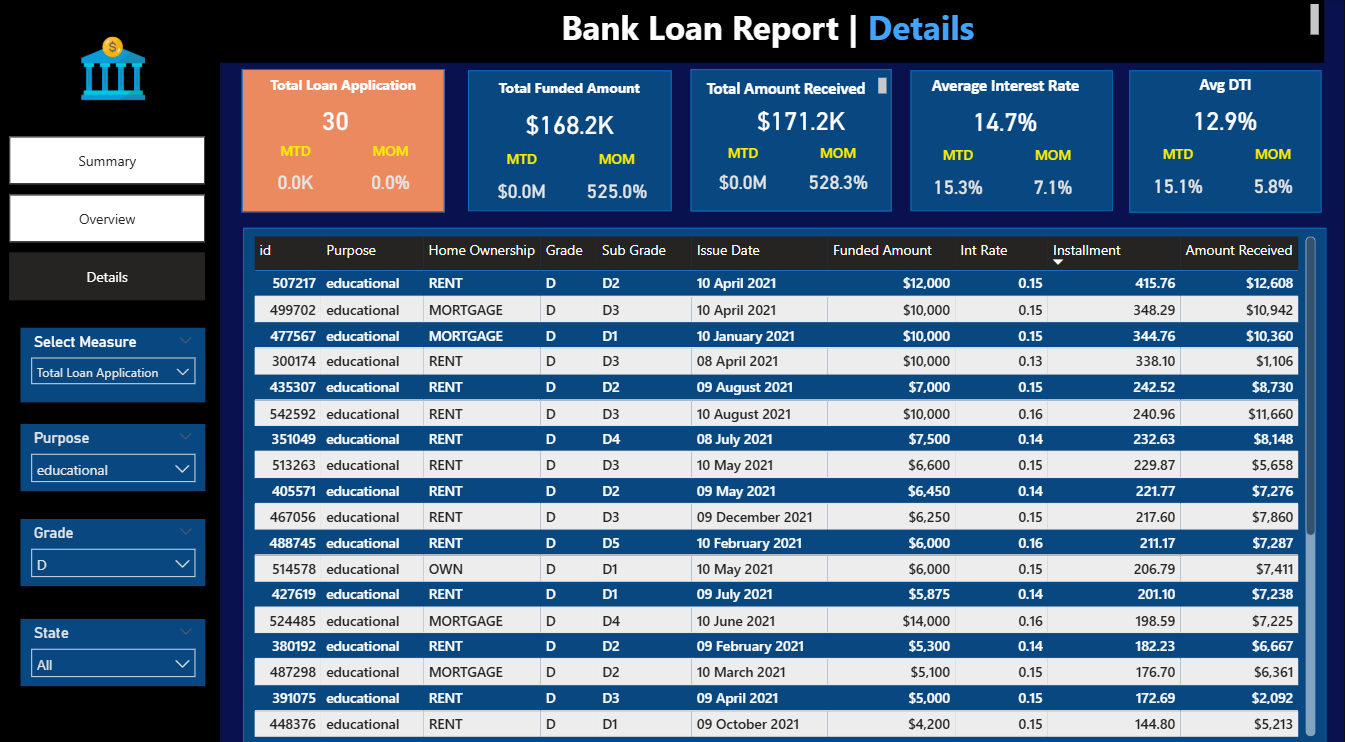

The page's visual inventory and layout, read from the dashboard file:
{"tool":"powerbi","page":{"name":"Details","canvas":[1300,720],"ordinal":2},"visuals":[{"type":"card","fields":{"Values":["bank_loan_data.Average DTI"]},"box":[1103.3,94.1,160.5,45.8],"z":0,"group":"g5"},{"type":"card","fields":{"Values":["bank_loan_data.Avg Interest Rate"]},"box":[891,95.3,160.5,45.8],"z":0,"group":"g4"},{"type":"card","fields":{"Values":["bank_loan_data.Total Funded Amount"]},"box":[471.5,97,160.5,49.1],"z":0,"group":"g2"},{"type":"card","fields":{"Values":["bank_loan_data.Total Amount Received"]},"box":[694.5,97.1,160.3,42.1],"z":0,"group":"g3"},{"type":"card","fields":{"Values":["bank_loan_data.Total Loan Application"]},"box":[242.1,98.7,166.5,37.4],"z":0,"group":"g1"},{"type":"shape","box":[236.5,220.8,1046,499.5],"z":0},{"type":"shape","box":[0,0,1280,61.5],"z":1000},{"type":"card","title":"MTD","fields":{"Values":["bank_loan_data.MTD Loan Application"]},"box":[241,137.3,91.7,61.5],"z":1000,"group":"g1"},{"type":"card","title":"MTD","fields":{"Values":["bank_loan_data.MTD Total Amount Received"]},"box":[673.2,138.6,91.7,60.3],"z":1000,"group":"g3"},{"type":"card","title":"MTD","fields":{"Values":["bank_loan_data.MTD Average DTI"]},"box":[1093,140.2,91.7,64.9],"z":1000,"group":"g5"},{"type":"card","title":"MTD","fields":{"Values":["bank_loan_data.MTD Avg Int Rate"]},"box":[880.7,141.4,91.7,64.9],"z":1000,"group":"g4"},{"type":"card","title":"MTD","fields":{"Values":["bank_loan_data.MTD Funded Application"]},"box":[459.6,145.1,91.7,66.1],"z":1000,"group":"g2"},{"type":"shape","box":[235,67.3,195.8,138.3],"z":2000},{"type":"textbox","box":[1087,67.6,195.4,29.3],"z":2000,"group":"g5"},{"type":"textbox","box":[235,68.5,195.4,27.7],"z":2000,"group":"g1"},{"type":"textbox","box":[874.7,68.8,195.4,29.3],"z":2000,"group":"g4"},{"type":"textbox","box":[453.6,71.2,195.4,29.8],"z":2000,"group":"g2"},{"type":"textbox","box":[667.2,71.2,195.4,27.2],"z":2000,"group":"g3"},{"type":"shape","box":[0,0,214.7,720.2],"z":3000},{"type":"card","title":"MOM","fields":{"Values":["bank_loan_data.MOM Loan Applications"]},"box":[332.7,137.3,91.7,61.5],"z":3000,"group":"g1"},{"type":"card","title":"MOM","fields":{"Values":["bank_loan_data.MOM Total Amount Received"]},"box":[764.9,138.6,91.7,60.3],"z":3000,"group":"g3"},{"type":"card","title":"MOM","fields":{"Values":["bank_loan_data.MOM Average DTI"]},"box":[1184.7,140.2,91.7,64.9],"z":3000,"group":"g5"},{"type":"card","title":"MOM","fields":{"Values":["bank_loan_data.MOM Avg Int Rate"]},"box":[972.4,141.4,91.7,64.9],"z":3000,"group":"g4"},{"type":"card","title":"MOM","fields":{"Values":["bank_loan_data.MOM Total Funded Amount"]},"box":[551.3,145.1,91.7,66.1],"z":3000,"group":"g2"},{"type":"textbox","box":[214.7,0,1065.3,51.9],"z":4000},{"type":"group","id":"g1","title":"Group 1","box":[235,68.5,195.8,131],"z":5000},{"type":"shape","box":[453.6,68.8,196.6,136.3],"z":6000},{"type":"group","id":"g2","title":"Group 1","box":[453.6,71.2,196.6,138.7],"z":7000},{"type":"shape","box":[668.4,67.6,194.2,137.5],"z":8000},{"type":"group","id":"g3","title":"Group 1","box":[667.2,71.2,195.4,126.7],"z":9000},{"type":"shape","box":[880.7,68.8,195.4,136.3],"z":10000},{"type":"group","id":"g4","title":"Group 1","box":[874.7,68.8,195.4,136.3],"z":11000},{"type":"shape","box":[1091.8,68.8,185.8,137.5],"z":12000},{"type":"group","id":"g5","title":"Group 1","box":[1087,67.6,195.4,136.3],"z":13000},{"type":"slicer","fields":{"Values":["bank_loan_data.grade"]},"box":[22,501.8,178.7,64.9],"z":15000},{"type":"slicer","fields":{"Values":["bank_loan_data.address_state"]},"box":[22,598.5,178.7,64.9],"z":16000},{"type":"slicer","fields":{"Values":["bank_loan_data.purpose"]},"box":[21.7,410.2,178.6,65.1],"z":17000},{"type":"image","box":[72.4,31.4,77.2,71.2],"z":18000},{"type":"slicer","fields":{"Values":["Select Measure.Select Measure"]},"box":[21.7,317.3,178.6,72.4],"z":23000},{"type":"tableEx","fields":{"Values":["bank_loan_data.id","bank_loan_data.purpose","bank_loan_data.home_ownership","bank_loan_data.grade","bank_loan_data.sub_grade","bank_loan_data.issue_date","bank_loan_data.Total Funded Amount","Sum(bank_loan_data.int_rate)","Sum(bank_loan_data.installment)","bank_loan_data.Total Amount Received"]},"box":[241.3,224.4,1035.1,492.2],"z":23001},{"type":"pageNavigator","box":[10.9,132.7,189.4,158],"z":23002}]}

Visuals, with their boxes in screenshot pixels (x1, y1, x2, y2), scaled from the page's 1300x720 canvas onto the 1345x742 screenshot:
card - bank_loan_data.Average DTI: 1141 97 1308 144
card - bank_loan_data.Avg Interest Rate: 922 98 1088 145
card - bank_loan_data.Total Funded Amount: 488 100 654 151
card - bank_loan_data.Total Amount Received: 719 100 884 143
card - bank_loan_data.Total Loan Application: 250 102 423 140
shape: 245 228 1327 741
shape: 0 0 1324 63
"MTD" card: 249 141 344 205
"MTD" card: 697 143 791 205
"MTD" card: 1131 144 1226 211
"MTD" card: 911 146 1006 213
"MTD" card: 476 150 570 218
shape: 243 69 446 212
textbox: 1125 70 1327 100
textbox: 243 71 445 99
textbox: 905 71 1107 101
textbox: 469 73 671 104
textbox: 690 73 892 101
shape: 0 0 222 741
"MOM" card: 344 141 439 205
"MOM" card: 791 143 886 205
"MOM" card: 1226 144 1321 211
"MOM" card: 1006 146 1101 213
"MOM" card: 570 150 665 218
textbox: 222 0 1324 53
"Group 1" group: 243 71 446 206
shape: 469 71 673 211
"Group 1" group: 469 73 673 216
shape: 692 70 892 211
"Group 1" group: 690 73 892 204
shape: 911 71 1113 211
"Group 1" group: 905 71 1107 211
shape: 1130 71 1322 213
"Group 1" group: 1125 70 1327 210
slicer - bank_loan_data.grade: 23 517 208 584
slicer - bank_loan_data.address_state: 23 617 208 684
slicer - bank_loan_data.purpose: 22 423 207 490
image: 75 32 155 106
slicer - Select Measure.Select Measure: 22 327 207 402
tableEx - bank_loan_data.id x bank_loan_data.purpose: 250 231 1321 738
pageNavigator: 11 137 207 300
